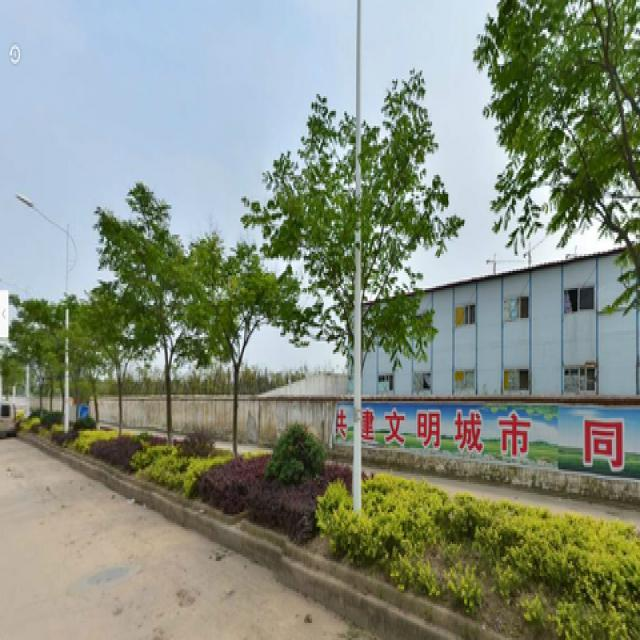koel: (113, 215, 187, 444), (188, 236, 264, 458)
